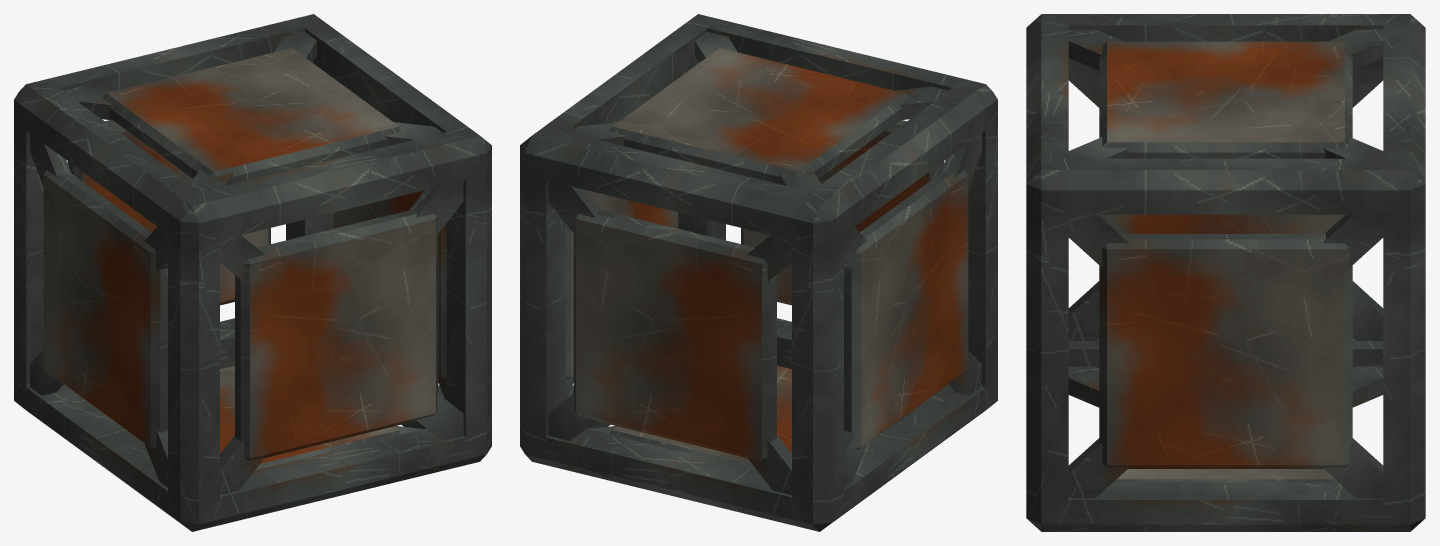
Rendered from R4B_TrussCube_LOD1.glb.
The picture shows the model from 3 angles, left to right: view 1: azimuth 30°, elevation 25°; view 2: azimuth 150°, elevation 25°; view 3: azimuth 270°, elevation 25°; orthographic projection. The views are drawn at different scales.
Visible parts, largest first — view 1: R4B_TrussCube_LOD1; view 2: R4B_TrussCube_LOD1; view 3: R4B_TrussCube_LOD1.
Part boxes in pixels (bbox=[...]): R4B_TrussCube_LOD1: bbox=[14, 14, 491, 531]; R4B_TrussCube_LOD1: bbox=[520, 14, 997, 531]; R4B_TrussCube_LOD1: bbox=[1026, 14, 1425, 531].
Bounding box in the file's own units: 0.52 × 0.52 × 0.52.
2 materials, 2 textured.
